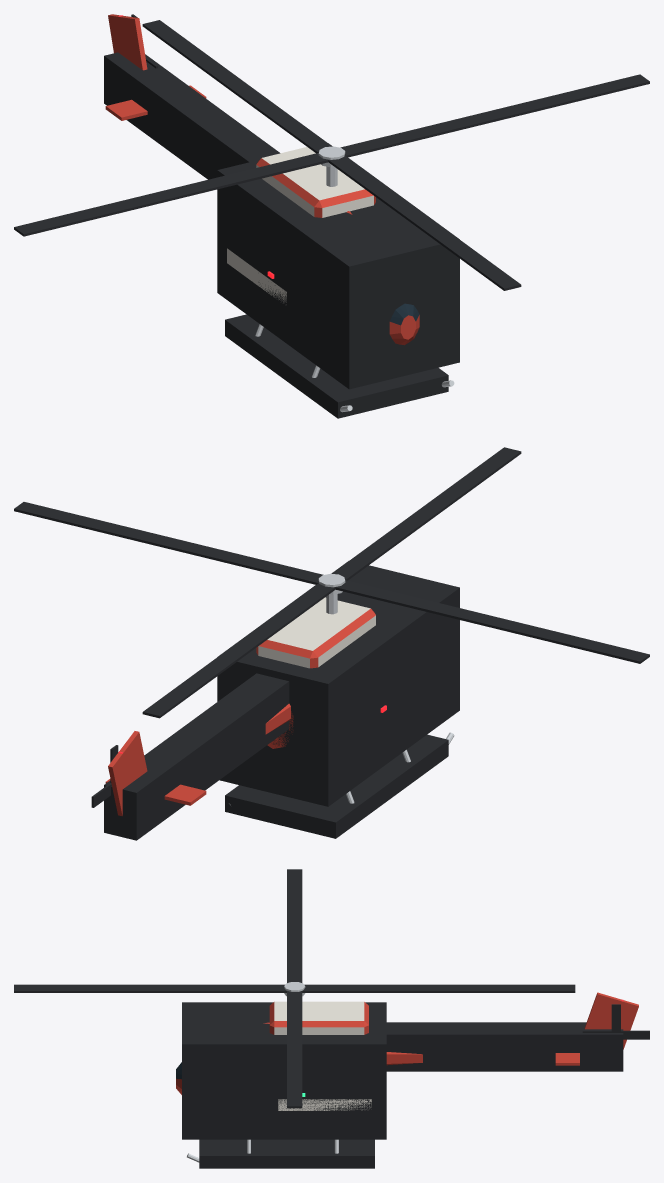
Rendered from VEH_PoliceHeli.fbx.
3 renders of one model, top to bottom at view 1: azimuth 30°, elevation 25°; view 2: azimuth 150°, elevation 25°; view 3: azimuth 270°, elevation 25°, orthographic. The views are drawn at different scales.
Parts seen in each view (by area): view 1: VEH_PoliceHeli__COL_Body, VEH_PoliceHeli__ROTOR_MAIN, VEH_PoliceHeli__COL_Tail, VEH_PoliceHeli__BODY, VEH_PoliceHeli__COL_Skids; view 2: VEH_PoliceHeli__COL_Body, VEH_PoliceHeli__ROTOR_MAIN, VEH_PoliceHeli__COL_Tail, VEH_PoliceHeli__BODY, VEH_PoliceHeli__COL_Skids; view 3: VEH_PoliceHeli__COL_Body, VEH_PoliceHeli__COL_Tail, VEH_PoliceHeli__ROTOR_MAIN, VEH_PoliceHeli__BODY, VEH_PoliceHeli__COL_Skids, VEH_PoliceHeli__ROTOR_TAIL.
Boxes of the visible parts, x1,y1,x2,y2 form: VEH_PoliceHeli__COL_Body: (217,143,459,389); VEH_PoliceHeli__ROTOR_MAIN: (14,20,649,290); VEH_PoliceHeli__COL_Tail: (104,52,280,179); VEH_PoliceHeli__BODY: (105,14,454,412); VEH_PoliceHeli__COL_Skids: (225,314,448,418); VEH_PoliceHeli__COL_Body: (217,561,459,806); VEH_PoliceHeli__ROTOR_MAIN: (14,447,649,718); VEH_PoliceHeli__COL_Tail: (104,673,289,840); VEH_PoliceHeli__BODY: (105,594,454,816); VEH_PoliceHeli__COL_Skids: (225,734,448,838); VEH_PoliceHeli__COL_Body: (182,1002,386,1139); VEH_PoliceHeli__COL_Tail: (386,1022,623,1071); VEH_PoliceHeli__ROTOR_MAIN: (14,869,575,1108); VEH_PoliceHeli__BODY: (176,992,638,1162); VEH_PoliceHeli__COL_Skids: (199,1139,374,1168); VEH_PoliceHeli__ROTOR_TAIL: (582,1004,649,1039).
Bounding box in the file's own units: 9.6 × 3.05 × 10.88.
